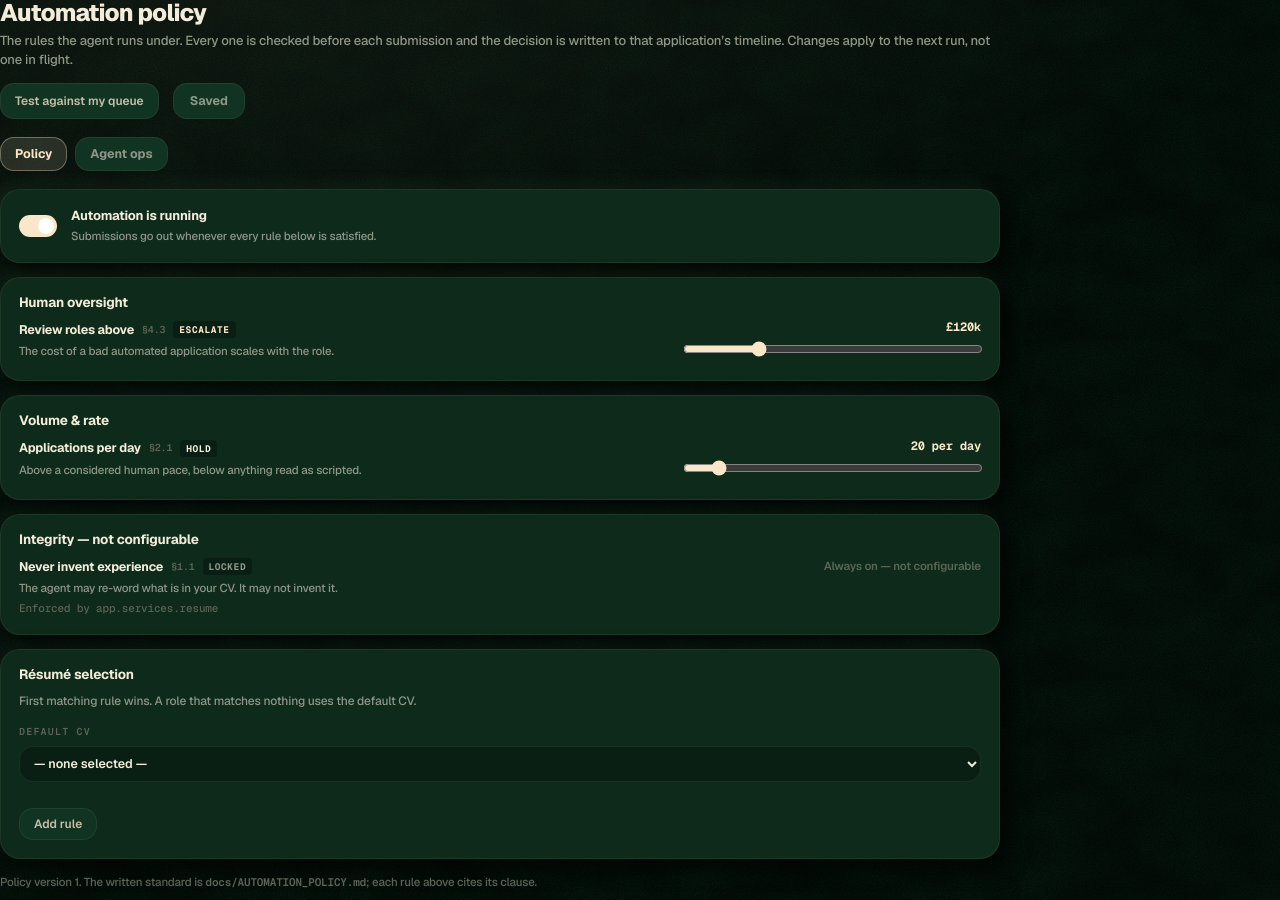
Test: AutomationPage › clears a stale preview when the policy changes underneath it
The image size is (1280, 900).
Step 1. Click the button "Test against my queue" → (79, 101), box [0,83,159,119]
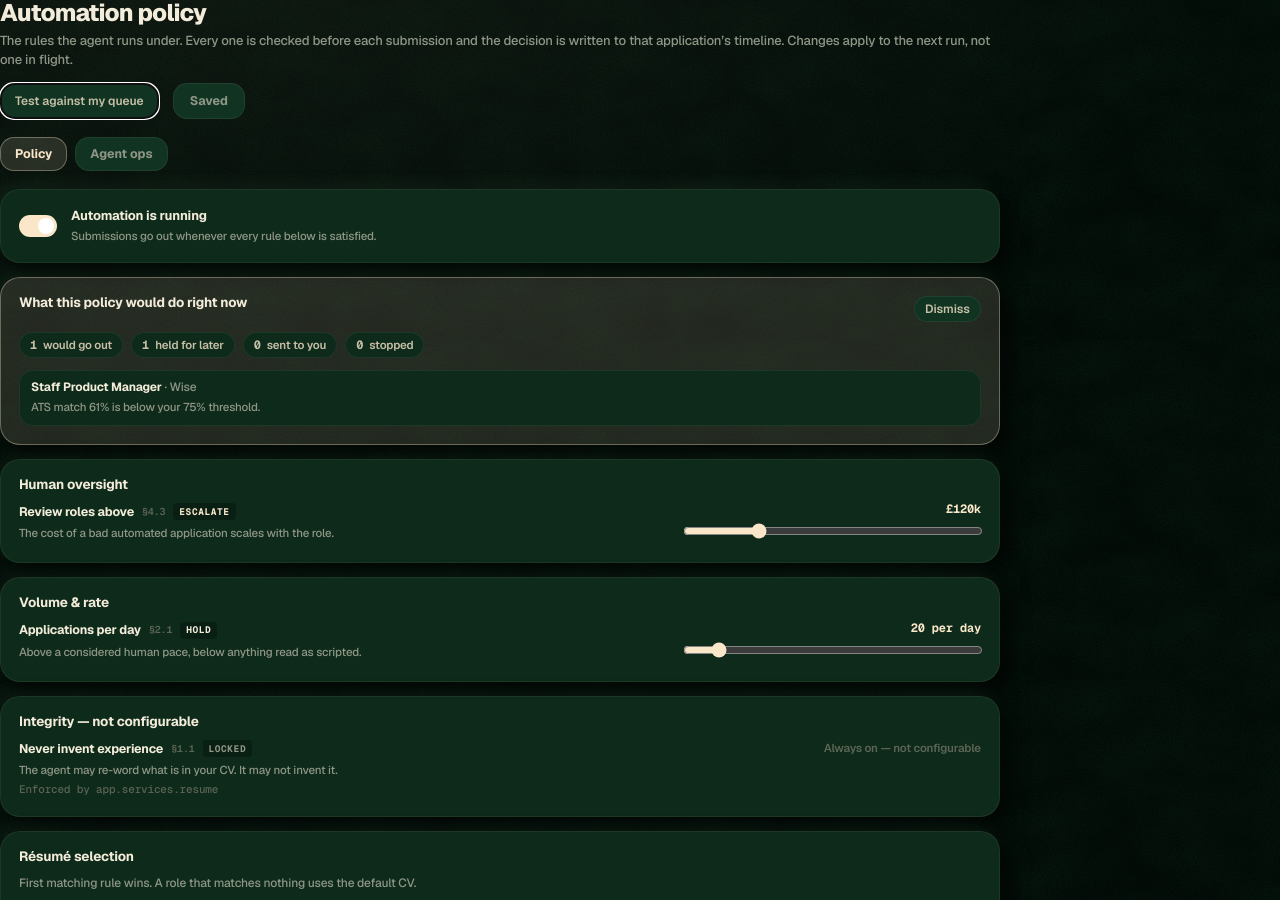
Expected: the text "What this policy would do right now" is shown, [19,296,247,310]
Step 2. Click the switch named "automation running" → (38, 226), box [19,215,57,237]
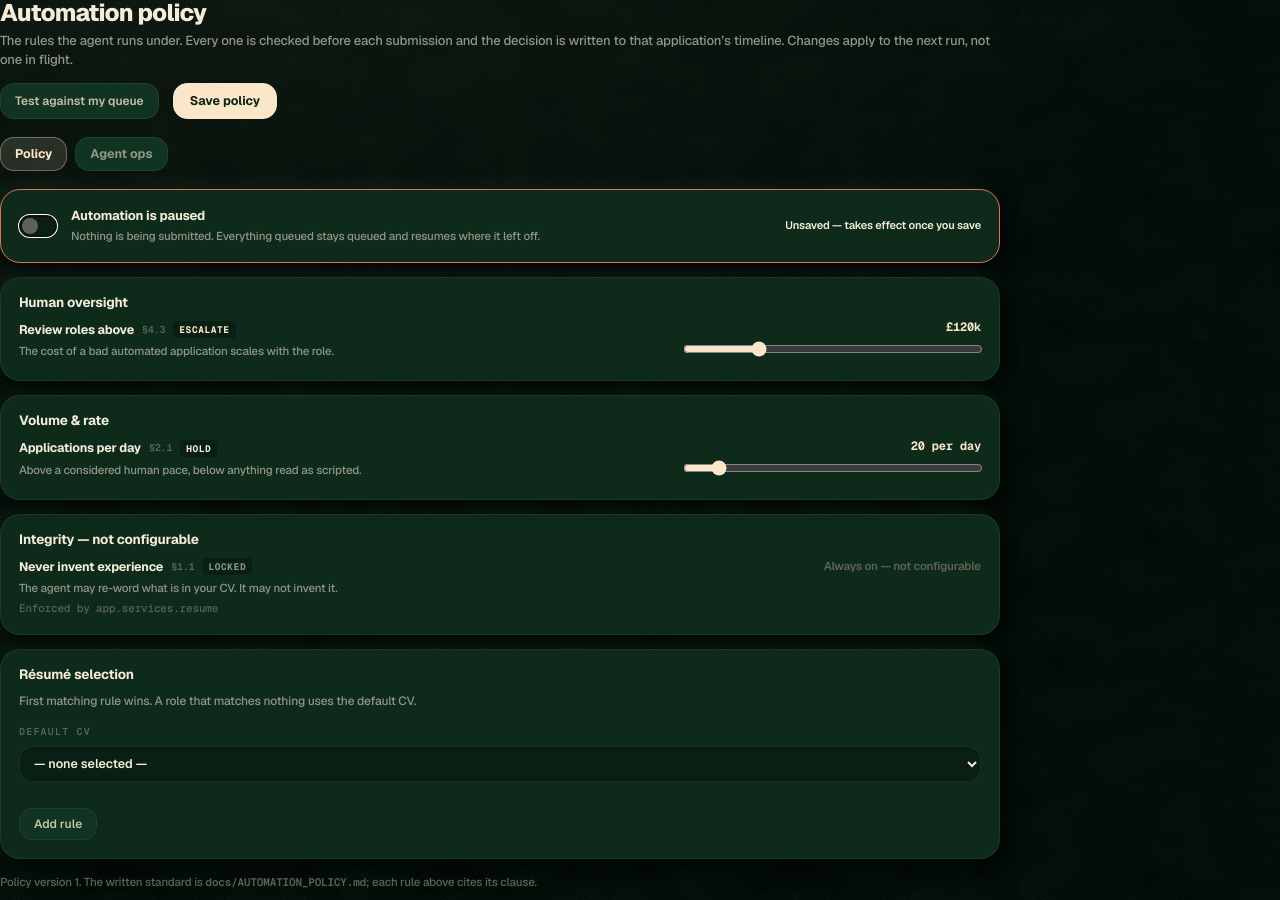
Expected: the text "What this policy would do right now" is gone
